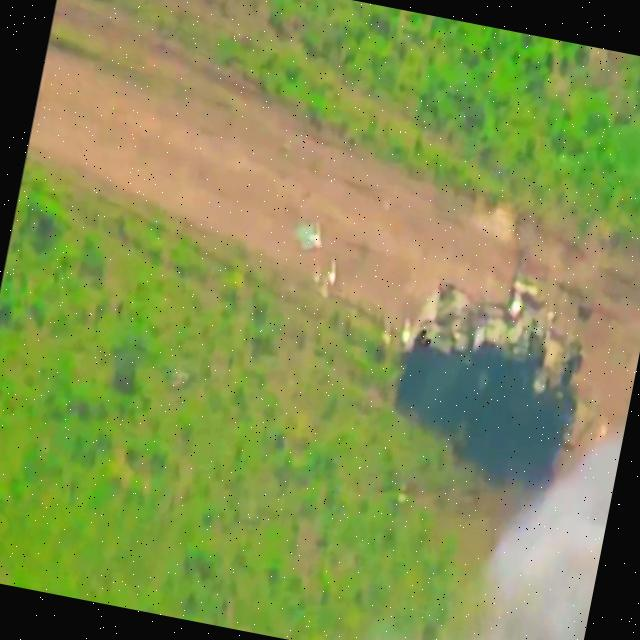AIFV: (387, 257, 598, 466)
